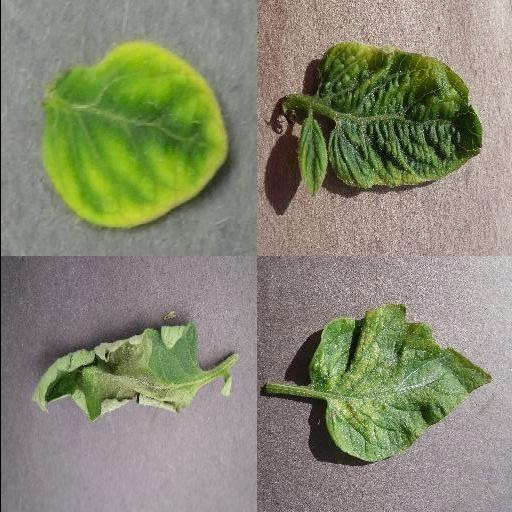Late Blight: (28, 319, 202, 423)
Spider Mites: (308, 307, 492, 462)
Yellow Leaf Curl Virus: (37, 41, 229, 230), (317, 41, 485, 185), (297, 119, 327, 197)
